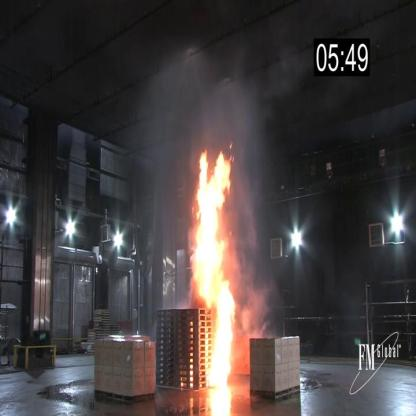fire: (191, 144, 238, 390)
